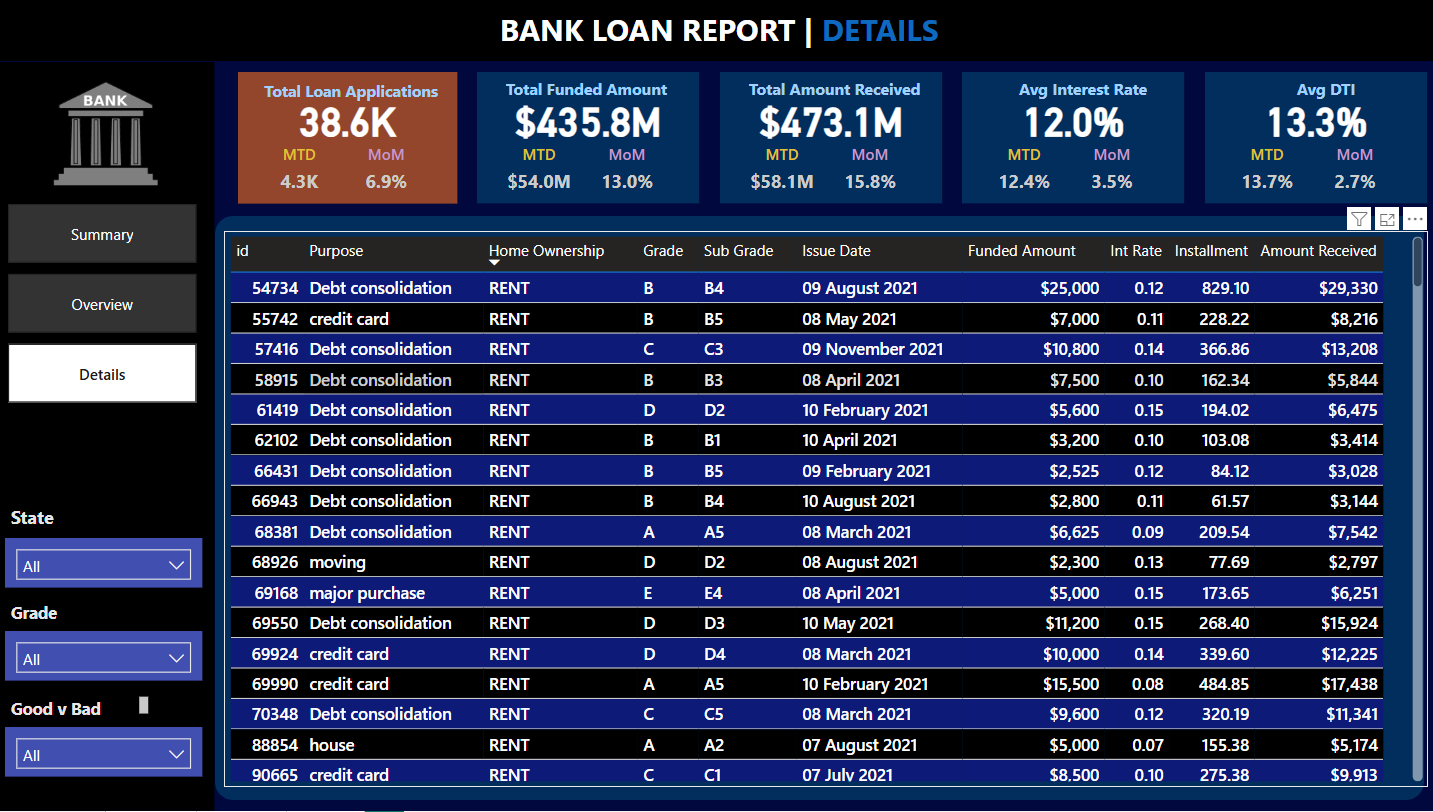

This screenshot's page, from the dashboard's own definition file:
{"tool":"powerbi","page":{"name":"Details","canvas":[1280,720],"ordinal":2},"visuals":[{"type":"shape","box":[0,0,1280,55.4],"z":0},{"type":"shape","box":[213,65.2,194.5,116.7],"z":0,"group":"g1"},{"type":"shape","box":[425,65.2,197.4,116.7],"z":0,"group":"g2"},{"type":"shape","box":[640,65.2,197.4,116.7],"z":0,"group":"g3"},{"type":"shape","box":[855,65.2,197.4,116.7],"z":0,"group":"g4"},{"type":"shape","box":[1069.9,65.2,197.4,116.7],"z":0,"group":"g5"},{"type":"shape","box":[0,55.4,192,664.3],"z":1000},{"type":"card","fields":{"Values":["financial_loan.Total Loan Application"]},"box":[215.9,82.7,188.7,46.7],"z":1000,"group":"g1"},{"type":"card","fields":{"Values":["financial_loan.Total Funded Amount"]},"box":[428,82.7,191.5,46.7],"z":1000,"group":"g2"},{"type":"card","fields":{"Values":["financial_loan.Total Amount Received"]},"box":[643,82.7,191.5,46.7],"z":1000,"group":"g3"},{"type":"card","fields":{"Values":["financial_loan.Avg Interest Rate"]},"box":[858,82.7,191.5,46.7],"z":1000,"group":"g4"},{"type":"card","fields":{"Values":["financial_loan.Avg DTI"]},"box":[1072.9,82.7,191.5,46.7],"z":1000,"group":"g5"},{"type":"textbox","box":[439.6,3.9,451.3,47.7],"z":2000},{"type":"textbox","box":[445.7,65.2,173.8,32.1],"z":2000,"group":"g2"},{"type":"textbox","box":[660.7,65.2,173.8,32.1],"z":2000,"group":"g3"},{"type":"textbox","box":[875.7,65.2,173.8,32.1],"z":2000,"group":"g4"},{"type":"textbox","box":[1090.6,65.2,173.8,32.1],"z":2000,"group":"g5"},{"type":"textbox","box":[221.7,67,182.9,30.2],"z":2000,"group":"g1"},{"type":"group","id":"g1","title":"Group 1","box":[213,65.2,194.5,116.7],"z":3000},{"type":"card","title":"MTD","fields":{"Values":["financial_loan.MTD Loan Applications"]},"box":[224.7,129.4,85.6,52.5],"z":3000,"group":"g1"},{"type":"card","title":"MTD","fields":{"Values":["financial_loan.MTD Funded Amount"]},"box":[436.8,129.4,86.9,52.5],"z":3000,"group":"g2"},{"type":"card","title":"MTD","fields":{"Values":["financial_loan.MTD Total Amount Received"]},"box":[651.8,129.4,86.9,52.5],"z":3000,"group":"g3"},{"type":"card","title":"MTD","fields":{"Values":["financial_loan.MTD Avg Interest Rate"]},"box":[866.8,129.4,86.9,52.5],"z":3000,"group":"g4"},{"type":"card","title":"MTD","fields":{"Values":["financial_loan.MTD Avg DTI"]},"box":[1081.7,129.4,86.9,52.5],"z":3000,"group":"g5"},{"type":"group","id":"g2","title":"Group 1","box":[425,65.2,197.4,116.7],"z":4000},{"type":"card","title":"MoM","fields":{"Values":["financial_loan.MoM Loan Application"]},"box":[301.5,129.4,85.6,52.5],"z":4000,"group":"g1"},{"type":"card","title":"MoM","fields":{"Values":["financial_loan.MoM Total Funded Amount"]},"box":[514.8,129.4,86.9,52.5],"z":4000,"group":"g2"},{"type":"card","title":"MoM","fields":{"Values":["financial_loan.MoM Total Amount Received"]},"box":[729.8,129.4,86.9,52.5],"z":4000,"group":"g3"},{"type":"card","title":"MoM","fields":{"Values":["financial_loan.MoM Abg Interest Rate"]},"box":[944.8,129.4,86.9,52.5],"z":4000,"group":"g4"},{"type":"card","title":"MoM","fields":{"Values":["financial_loan.MoM Avg DTI"]},"box":[1159.7,129.4,86.9,52.5],"z":4000,"group":"g5"},{"type":"group","id":"g3","title":"Group 1","box":[640,65.2,197.4,116.7],"z":5000},{"type":"group","id":"g4","title":"Group 1","box":[855,65.2,197.4,116.7],"z":6000},{"type":"group","id":"g5","title":"Group 1","box":[1069.9,65.2,197.4,116.7],"z":7000},{"type":"slicer","fields":{"Values":["financial_loan.address_state"]},"box":[6.2,477.9,174.7,44.3],"z":8000},{"type":"textbox","box":[6.2,443.3,56.7,31.9],"z":9000},{"type":"slicer","fields":{"Values":["financial_loan.grade"]},"box":[6.2,560.4,174.7,44.3],"z":10000},{"type":"textbox","box":[6.2,528.5,64.7,31.9],"z":11000},{"type":"slicer","fields":{"Values":["financial_loan.Good vs Bad Loan"]},"box":[6.2,645.5,174.7,44.3],"z":12000},{"type":"textbox","box":[6.2,613.6,132.1,31.9],"z":13000},{"type":"shape","box":[192.4,192.4,1072,517.8],"z":16000},{"type":"tableEx","fields":{"Values":["financial_loan.id","financial_loan.purpose","financial_loan.home_ownership","financial_loan.grade","financial_loan.sub_grade","financial_loan.issue_date","financial_loan.Total Funded Amount","Sum(financial_loan.int_rate)","Sum(financial_loan.installment)","financial_loan.Total Amount Received"]},"box":[200.4,205.7,1067.6,493],"z":17000},{"type":"image","box":[18.6,68.3,153.4,102.9],"z":17001},{"type":"pageNavigator","box":[8.9,181.8,167.6,176.5],"z":17002}]}

Visuals, with their boxes on the page's 1280x720 design canvas (x1, y1, x2, y2). These are canvas units, not pixel positions in the 1433x812 screenshot, which may show the page scaled, cropped or inside an application window:
shape: {"x1": 0, "y1": 0, "x2": 1280, "y2": 55}
shape: {"x1": 213, "y1": 65, "x2": 408, "y2": 182}
shape: {"x1": 425, "y1": 65, "x2": 622, "y2": 182}
shape: {"x1": 640, "y1": 65, "x2": 837, "y2": 182}
shape: {"x1": 855, "y1": 65, "x2": 1052, "y2": 182}
shape: {"x1": 1070, "y1": 65, "x2": 1267, "y2": 182}
shape: {"x1": 0, "y1": 55, "x2": 192, "y2": 720}
card - financial_loan.Total Loan Application: {"x1": 216, "y1": 83, "x2": 405, "y2": 129}
card - financial_loan.Total Funded Amount: {"x1": 428, "y1": 83, "x2": 620, "y2": 129}
card - financial_loan.Total Amount Received: {"x1": 643, "y1": 83, "x2": 834, "y2": 129}
card - financial_loan.Avg Interest Rate: {"x1": 858, "y1": 83, "x2": 1050, "y2": 129}
card - financial_loan.Avg DTI: {"x1": 1073, "y1": 83, "x2": 1264, "y2": 129}
textbox: {"x1": 440, "y1": 4, "x2": 891, "y2": 52}
textbox: {"x1": 446, "y1": 65, "x2": 620, "y2": 97}
textbox: {"x1": 661, "y1": 65, "x2": 834, "y2": 97}
textbox: {"x1": 876, "y1": 65, "x2": 1050, "y2": 97}
textbox: {"x1": 1091, "y1": 65, "x2": 1264, "y2": 97}
textbox: {"x1": 222, "y1": 67, "x2": 405, "y2": 97}
"Group 1" group: {"x1": 213, "y1": 65, "x2": 408, "y2": 182}
"MTD" card: {"x1": 225, "y1": 129, "x2": 310, "y2": 182}
"MTD" card: {"x1": 437, "y1": 129, "x2": 524, "y2": 182}
"MTD" card: {"x1": 652, "y1": 129, "x2": 739, "y2": 182}
"MTD" card: {"x1": 867, "y1": 129, "x2": 954, "y2": 182}
"MTD" card: {"x1": 1082, "y1": 129, "x2": 1169, "y2": 182}
"Group 1" group: {"x1": 425, "y1": 65, "x2": 622, "y2": 182}
"MoM" card: {"x1": 302, "y1": 129, "x2": 387, "y2": 182}
"MoM" card: {"x1": 515, "y1": 129, "x2": 602, "y2": 182}
"MoM" card: {"x1": 730, "y1": 129, "x2": 817, "y2": 182}
"MoM" card: {"x1": 945, "y1": 129, "x2": 1032, "y2": 182}
"MoM" card: {"x1": 1160, "y1": 129, "x2": 1247, "y2": 182}
"Group 1" group: {"x1": 640, "y1": 65, "x2": 837, "y2": 182}
"Group 1" group: {"x1": 855, "y1": 65, "x2": 1052, "y2": 182}
"Group 1" group: {"x1": 1070, "y1": 65, "x2": 1267, "y2": 182}
slicer - financial_loan.address_state: {"x1": 6, "y1": 478, "x2": 181, "y2": 522}
textbox: {"x1": 6, "y1": 443, "x2": 63, "y2": 475}
slicer - financial_loan.grade: {"x1": 6, "y1": 560, "x2": 181, "y2": 605}
textbox: {"x1": 6, "y1": 528, "x2": 71, "y2": 560}
slicer - financial_loan.Good vs Bad Loan: {"x1": 6, "y1": 646, "x2": 181, "y2": 690}
textbox: {"x1": 6, "y1": 614, "x2": 138, "y2": 646}
shape: {"x1": 192, "y1": 192, "x2": 1264, "y2": 710}
tableEx - financial_loan.id x financial_loan.purpose: {"x1": 200, "y1": 206, "x2": 1268, "y2": 699}
image: {"x1": 19, "y1": 68, "x2": 172, "y2": 171}
pageNavigator: {"x1": 9, "y1": 182, "x2": 176, "y2": 358}
